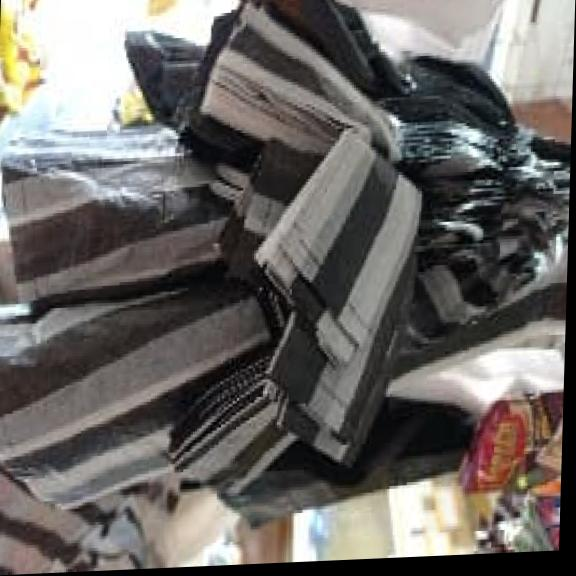Plastik: (0, 0, 575, 568)
